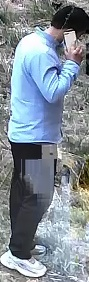phone: (41, 20, 87, 105)
